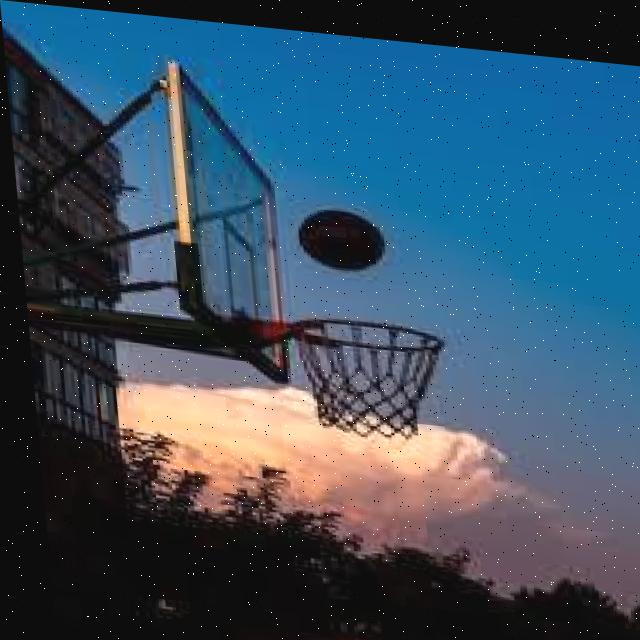basketball: (294, 203, 393, 279)
hoop: (289, 312, 450, 446)
